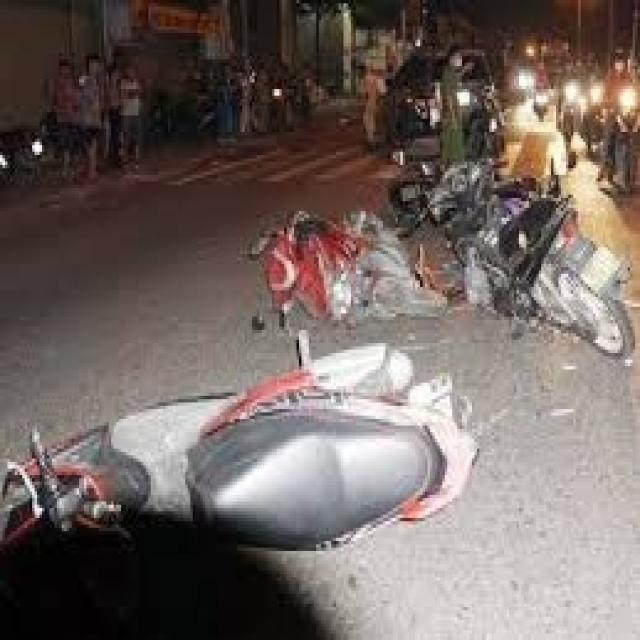accident: (0, 323, 484, 579), (232, 101, 640, 379)
